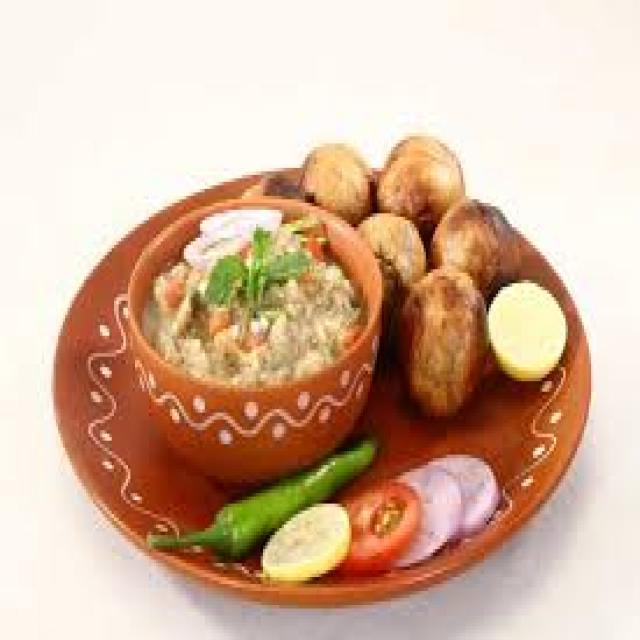rice: (158, 202, 367, 423)
sweet: (141, 254, 202, 335)
veg-fry: (164, 199, 360, 422)
